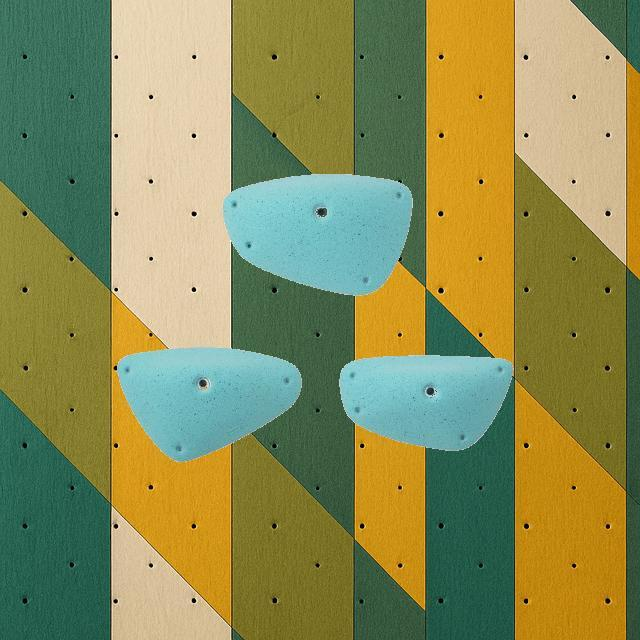Sloper: (221, 172, 413, 296), (115, 346, 302, 462), (338, 354, 514, 451)
